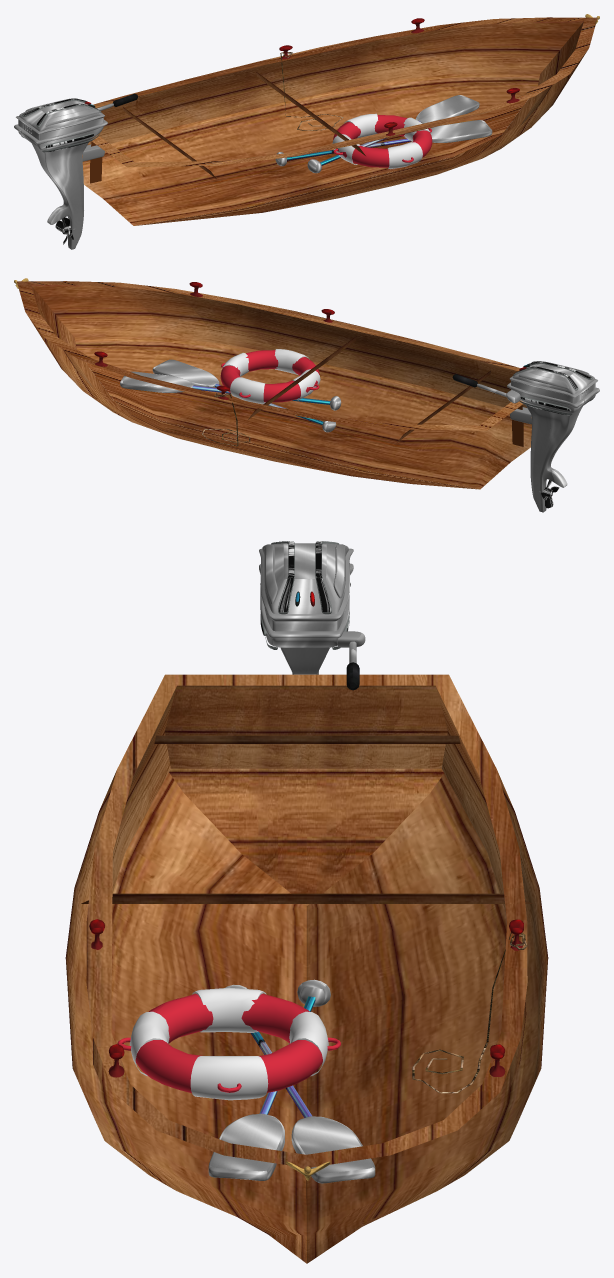
The model's file is motor-boat-runtime.glb.
3 views of the same model, one above another, from view 1: azimuth 30°, elevation 25°; view 2: azimuth 150°, elevation 25°; view 3: azimuth 270°, elevation 25° (orthographic). The views are drawn at different scales.
Visible parts, largest first — view 1: g0; view 2: g0; view 3: g0.
Part boxes in pixels (bbox=[...]): g0: bbox=[14, 14, 599, 249]; g0: bbox=[14, 278, 599, 512]; g0: bbox=[65, 541, 548, 1263].
Bounding box in the file's own units: 26.08 × 6.43 × 9.49.
14 materials, 14 textured.
